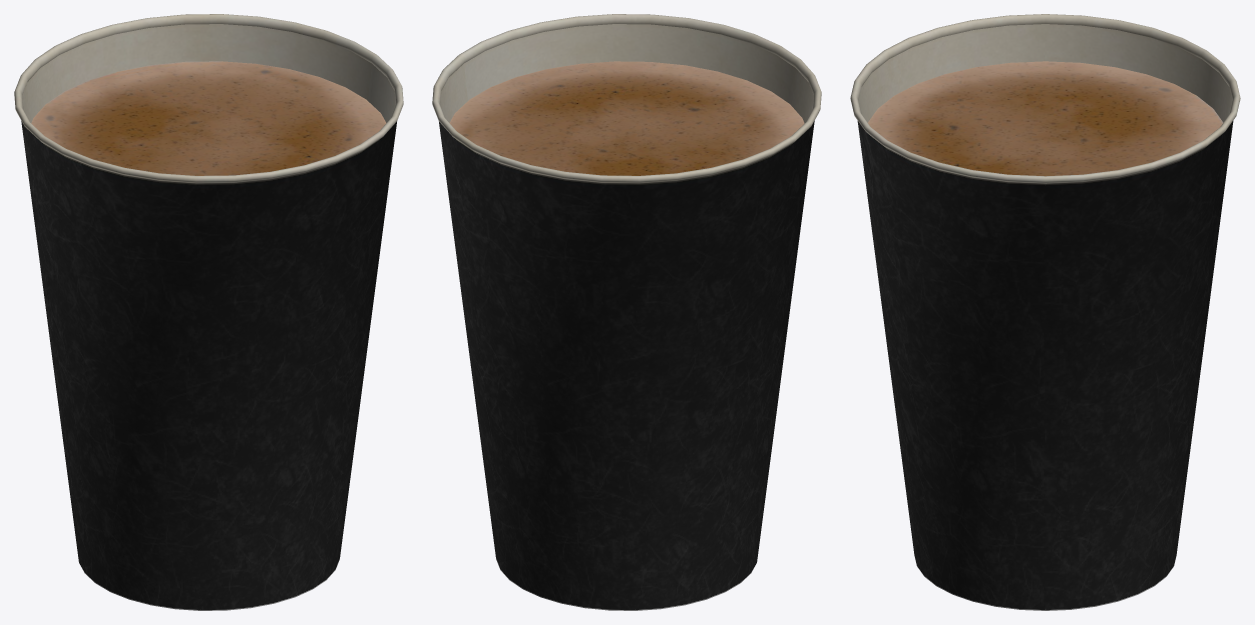
File: cup_and_drink.fbx
3 renders of one model, left to right at view 1: azimuth 30°, elevation 25°; view 2: azimuth 150°, elevation 25°; view 3: azimuth 270°, elevation 25°, orthographic.
Visible parts, largest first — view 1: Cup, Drink; view 2: Cup, Drink; view 3: Cup, Drink.
Boxes of the visible parts, box(x1,y1,x2,y2) form: Cup: box(14, 14, 403, 610); Drink: box(31, 61, 386, 175); Cup: box(432, 14, 821, 610); Drink: box(449, 61, 804, 175); Cup: box(850, 14, 1240, 610); Drink: box(868, 61, 1223, 176).
Size of the model in its own units: 0.8763 by 1.14 by 0.8763.
2 materials, 2 textured.
